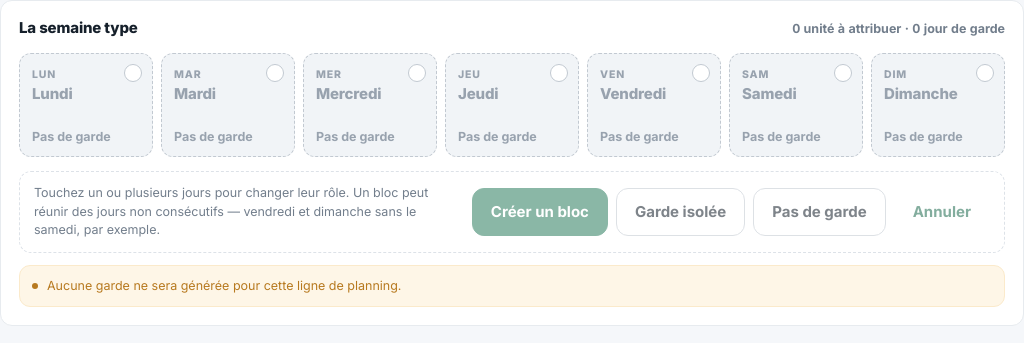
Test: WeekStructureEditor › zone d’actions stable (aucun saut de mise en page) › Annuler vide la sélection et revient à l’aide, boutons toujours en place
Click the button "Lun Lundi Pas de garde". click: x=86, y=105
box: top-left (19, 53), bottom-right (153, 157)
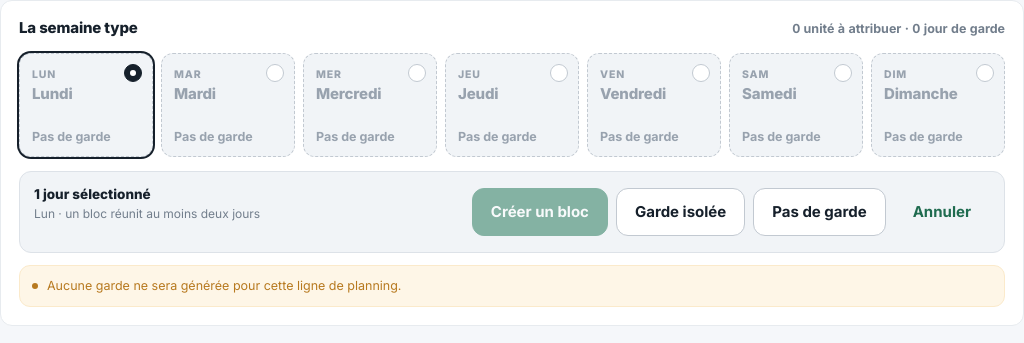
Click the button "Mer Mercredi Pas de garde". click: x=370, y=105
box: top-left (303, 53), bottom-right (437, 157)
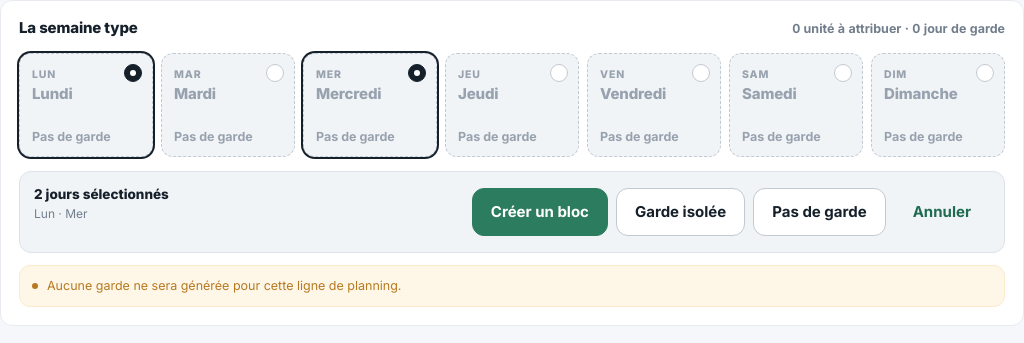
Click the button "Annuler". click: x=942, y=212
box: top-left (894, 188), bottom-right (990, 236)
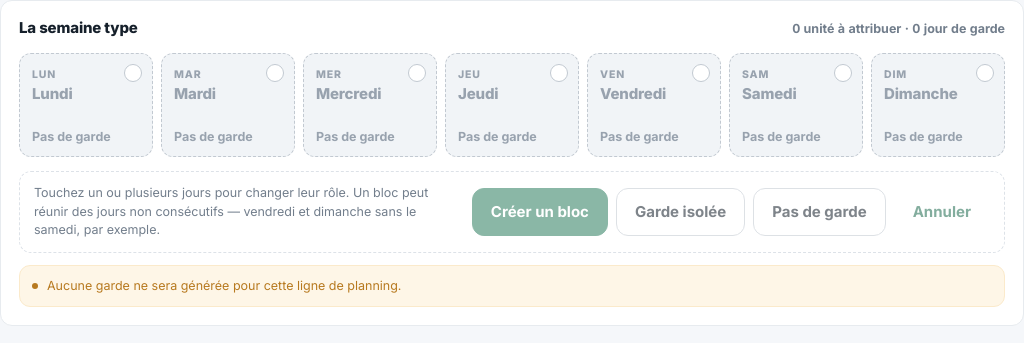
Expected: the button "Créer un bloc" is disabled, top-left (472, 188), bottom-right (608, 236)
Expected: the button "Garde isolée" is disabled, top-left (616, 188), bottom-right (745, 236)
Expected: the button "Pas de garde" is disabled, top-left (753, 188), bottom-right (886, 236)
